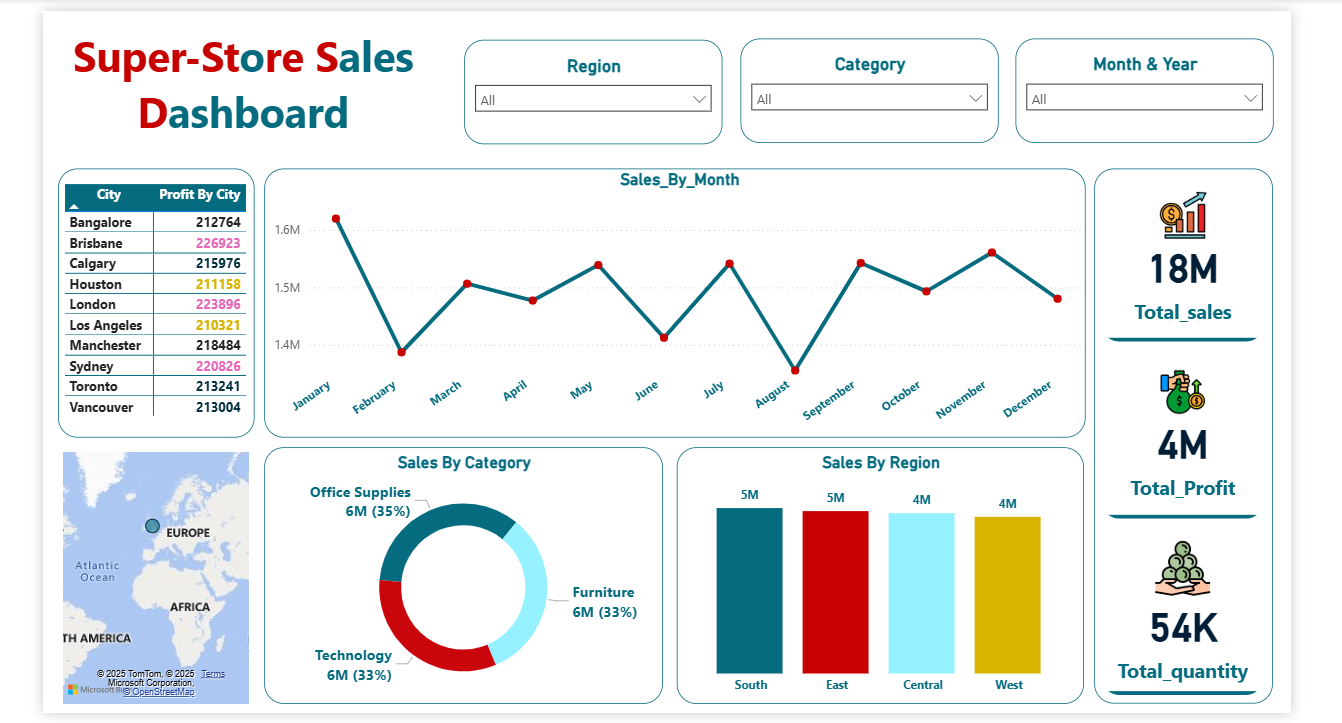

This screenshot's page, from the dashboard's own definition file:
{"tool":"powerbi","page":{"name":"Dashboard","canvas":[1280,720],"ordinal":0},"visuals":[{"type":"cardVisual","fields":{"Data":["superstore_sales_large.Total_sales","superstore_sales_large.Total_Profit","Sum(superstore_sales_large.quantity)"]},"box":[1078.6,161.4,182.9,548.6],"z":0},{"type":"textbox","box":[15.7,11.4,380,141.4],"z":1000},{"type":"donutChart","title":"Sales By Category","fields":{"Category":["superstore_sales_large.category"],"Y":["superstore_sales_large.Total_sales"]},"box":[227.1,447.1,409,262.9],"z":1000,"group":"g2"},{"type":"lineChart","title":"Sales_By_Month","fields":{"Category":["CustDate.date.Variation.Date Hierarchy.Year","CustDate.date.Variation.Date Hierarchy.Quarter","CustDate.date.Variation.Date Hierarchy.Month","CustDate.date.Variation.Date Hierarchy.Day"],"Y":["superstore_sales_large.Total_sales"]},"box":[227,161.4,842,275.7],"z":2000},{"type":"columnChart","title":"Sales By Region","fields":{"Category":["superstore_sales_large.region"],"Y":["superstore_sales_large.Total_sales"]},"box":[650.7,447.1,417.8,262.9],"z":2000,"group":"g2"},{"type":"tableEx","fields":{"Values":["superstore_sales_large.city","Sum(superstore_sales_large.profit_column)"]},"box":[15.7,161.4,201.4,275.7],"z":3000},{"type":"group","id":"g1","title":"Group 1","box":[431.4,28.6,830,108.6],"z":4000},{"type":"slicer","title":"Category","fields":{"Values":["superstore_sales_large.category"]},"box":[714.9,28.6,264.6,107.1],"z":5000,"group":"g1"},{"type":"group","id":"g2","title":"Group 2","box":[227.1,447.1,841.4,262.9],"z":5000},{"type":"map","fields":{"Size":["superstore_sales_large.Total_Profit"],"Category":["superstore_sales_large.country"]},"box":[15.7,447.1,201.4,262.9],"z":6000},{"type":"slicer","title":"Region","fields":{"Values":["superstore_sales_large.region"]},"box":[431.4,30,264.6,107.1],"z":7000,"group":"g1"},{"type":"slicer","title":"Month & Year","fields":{"Values":["CustDate.date.Variation.Date Hierarchy.Year","CustDate.date.Variation.Date Hierarchy.Month"]},"box":[996.8,28.6,264.6,107.1],"z":9000,"group":"g1"}]}

Visuals, with their boxes on the page's 1280x720 design canvas (x1, y1, x2, y2). These are canvas units, not pixel positions in the 1342x723 screenshot, which may show the page scaled, cropped or inside an application window:
cardVisual - superstore_sales_large.Total_sales x superstore_sales_large.Total_Profit: bbox=(1079, 161, 1262, 710)
textbox: bbox=(16, 11, 396, 153)
"Sales By Category" donutChart: bbox=(227, 447, 636, 710)
"Sales_By_Month" lineChart: bbox=(227, 161, 1069, 437)
"Sales By Region" columnChart: bbox=(651, 447, 1068, 710)
tableEx - superstore_sales_large.city x Sum(superstore_sales_large.profit_column): bbox=(16, 161, 217, 437)
"Group 1" group: bbox=(431, 29, 1261, 137)
"Category" slicer: bbox=(715, 29, 980, 136)
"Group 2" group: bbox=(227, 447, 1068, 710)
map - superstore_sales_large.Total_Profit x superstore_sales_large.country: bbox=(16, 447, 217, 710)
"Region" slicer: bbox=(431, 30, 696, 137)
"Month & Year" slicer: bbox=(997, 29, 1261, 136)
